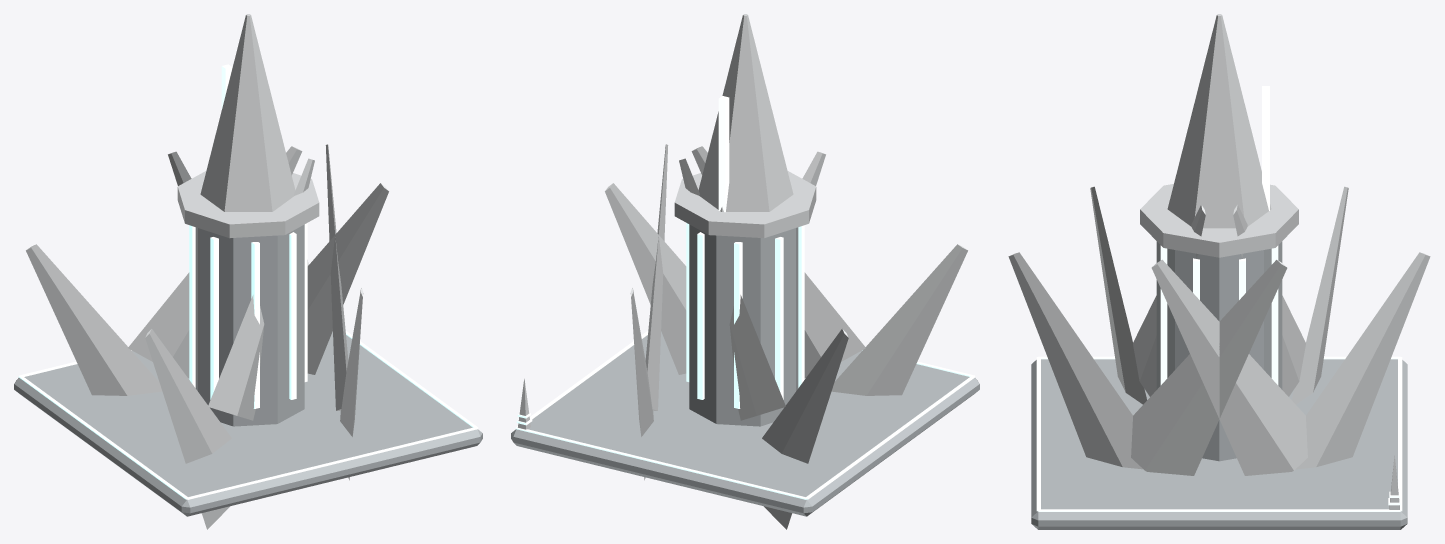
Rendered from zone_high_2_t2.glb.
3 views of the same model, side by side, from view 1: azimuth 30°, elevation 25°; view 2: azimuth 150°, elevation 25°; view 3: azimuth 270°, elevation 25° (orthographic). The views are drawn at different scales.
Visible parts, largest first — view 1: zone_high_2_t2, detail; view 2: zone_high_2_t2, detail; view 3: zone_high_2_t2, detail.
Boxes of the visible parts, x1=… form: zone_high_2_t2: x1=14, y1=14, x2=482, y2=529; detail: x1=18, y1=260, x2=478, y2=499; zone_high_2_t2: x1=511, y1=14, x2=979, y2=529; detail: x1=515, y1=330, x2=975, y2=499; zone_high_2_t2: x1=1008, y1=14, x2=1430, y2=529; detail: x1=1036, y1=356, x2=1402, y2=511.
Bounding box in the file's own units: 28.64 × 40.63 × 30.84.
